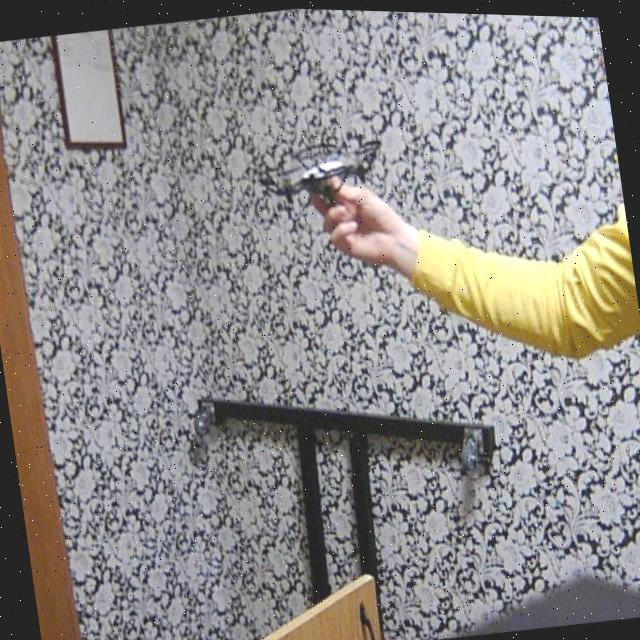drone: (251, 118, 394, 212)
